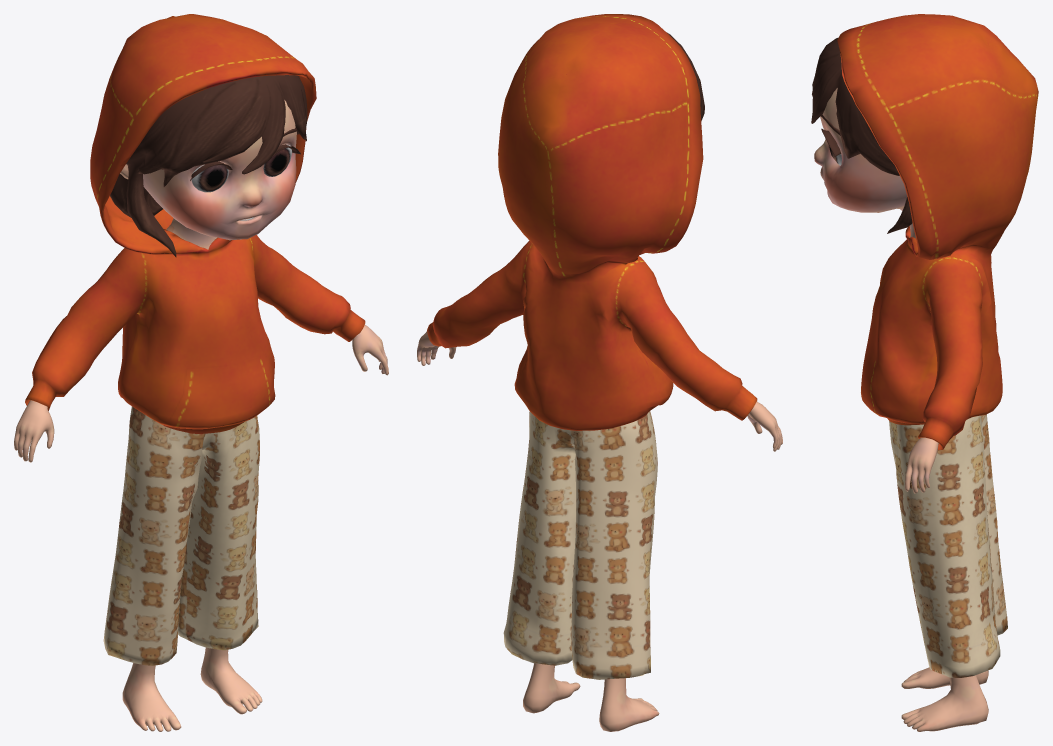
The model's file is character.fbx.
3 views of the same model, side by side, from view 1: azimuth 30°, elevation 25°; view 2: azimuth 150°, elevation 25°; view 3: azimuth 270°, elevation 25° (orthographic). The views are drawn at different scales.
Visible parts, largest first — view 1: 3_low, 4_low, 2_low; view 2: 3_low, 4_low, 2_low; view 3: 3_low, 4_low, 2_low.
Part boxes in pixels (box(x1,y1,x2,y2)): 3_low: box(25, 14, 365, 433); 4_low: box(103, 75, 307, 665); 2_low: box(14, 100, 388, 731); 3_low: box(427, 14, 757, 430); 4_low: box(503, 32, 704, 679); 2_low: box(417, 331, 782, 731); 3_low: box(829, 14, 1038, 450); 4_low: box(811, 37, 1007, 677); 2_low: box(814, 88, 988, 731).
Bounding box in the file's own units: 62.77 × 112 × 33.84.
